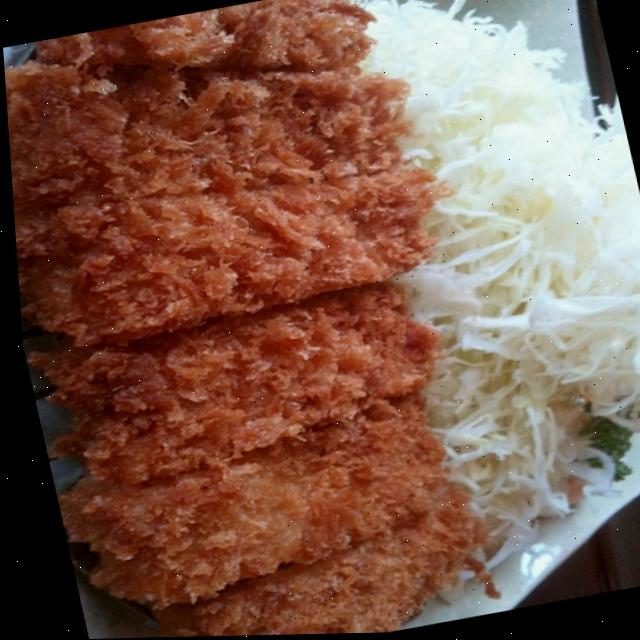牛肉菜式: (0, 0, 530, 640)
